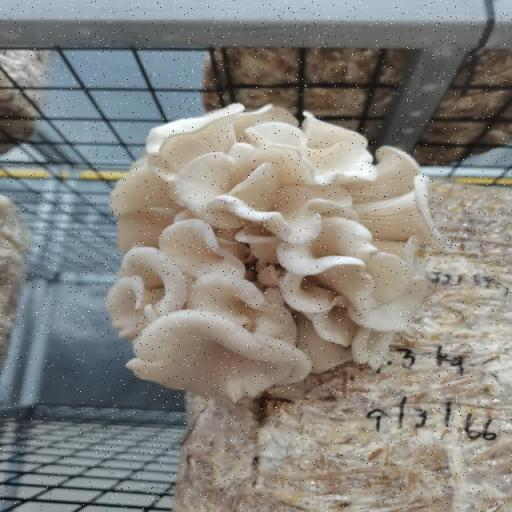White Oyster Mushroom: (101, 102, 446, 407)
